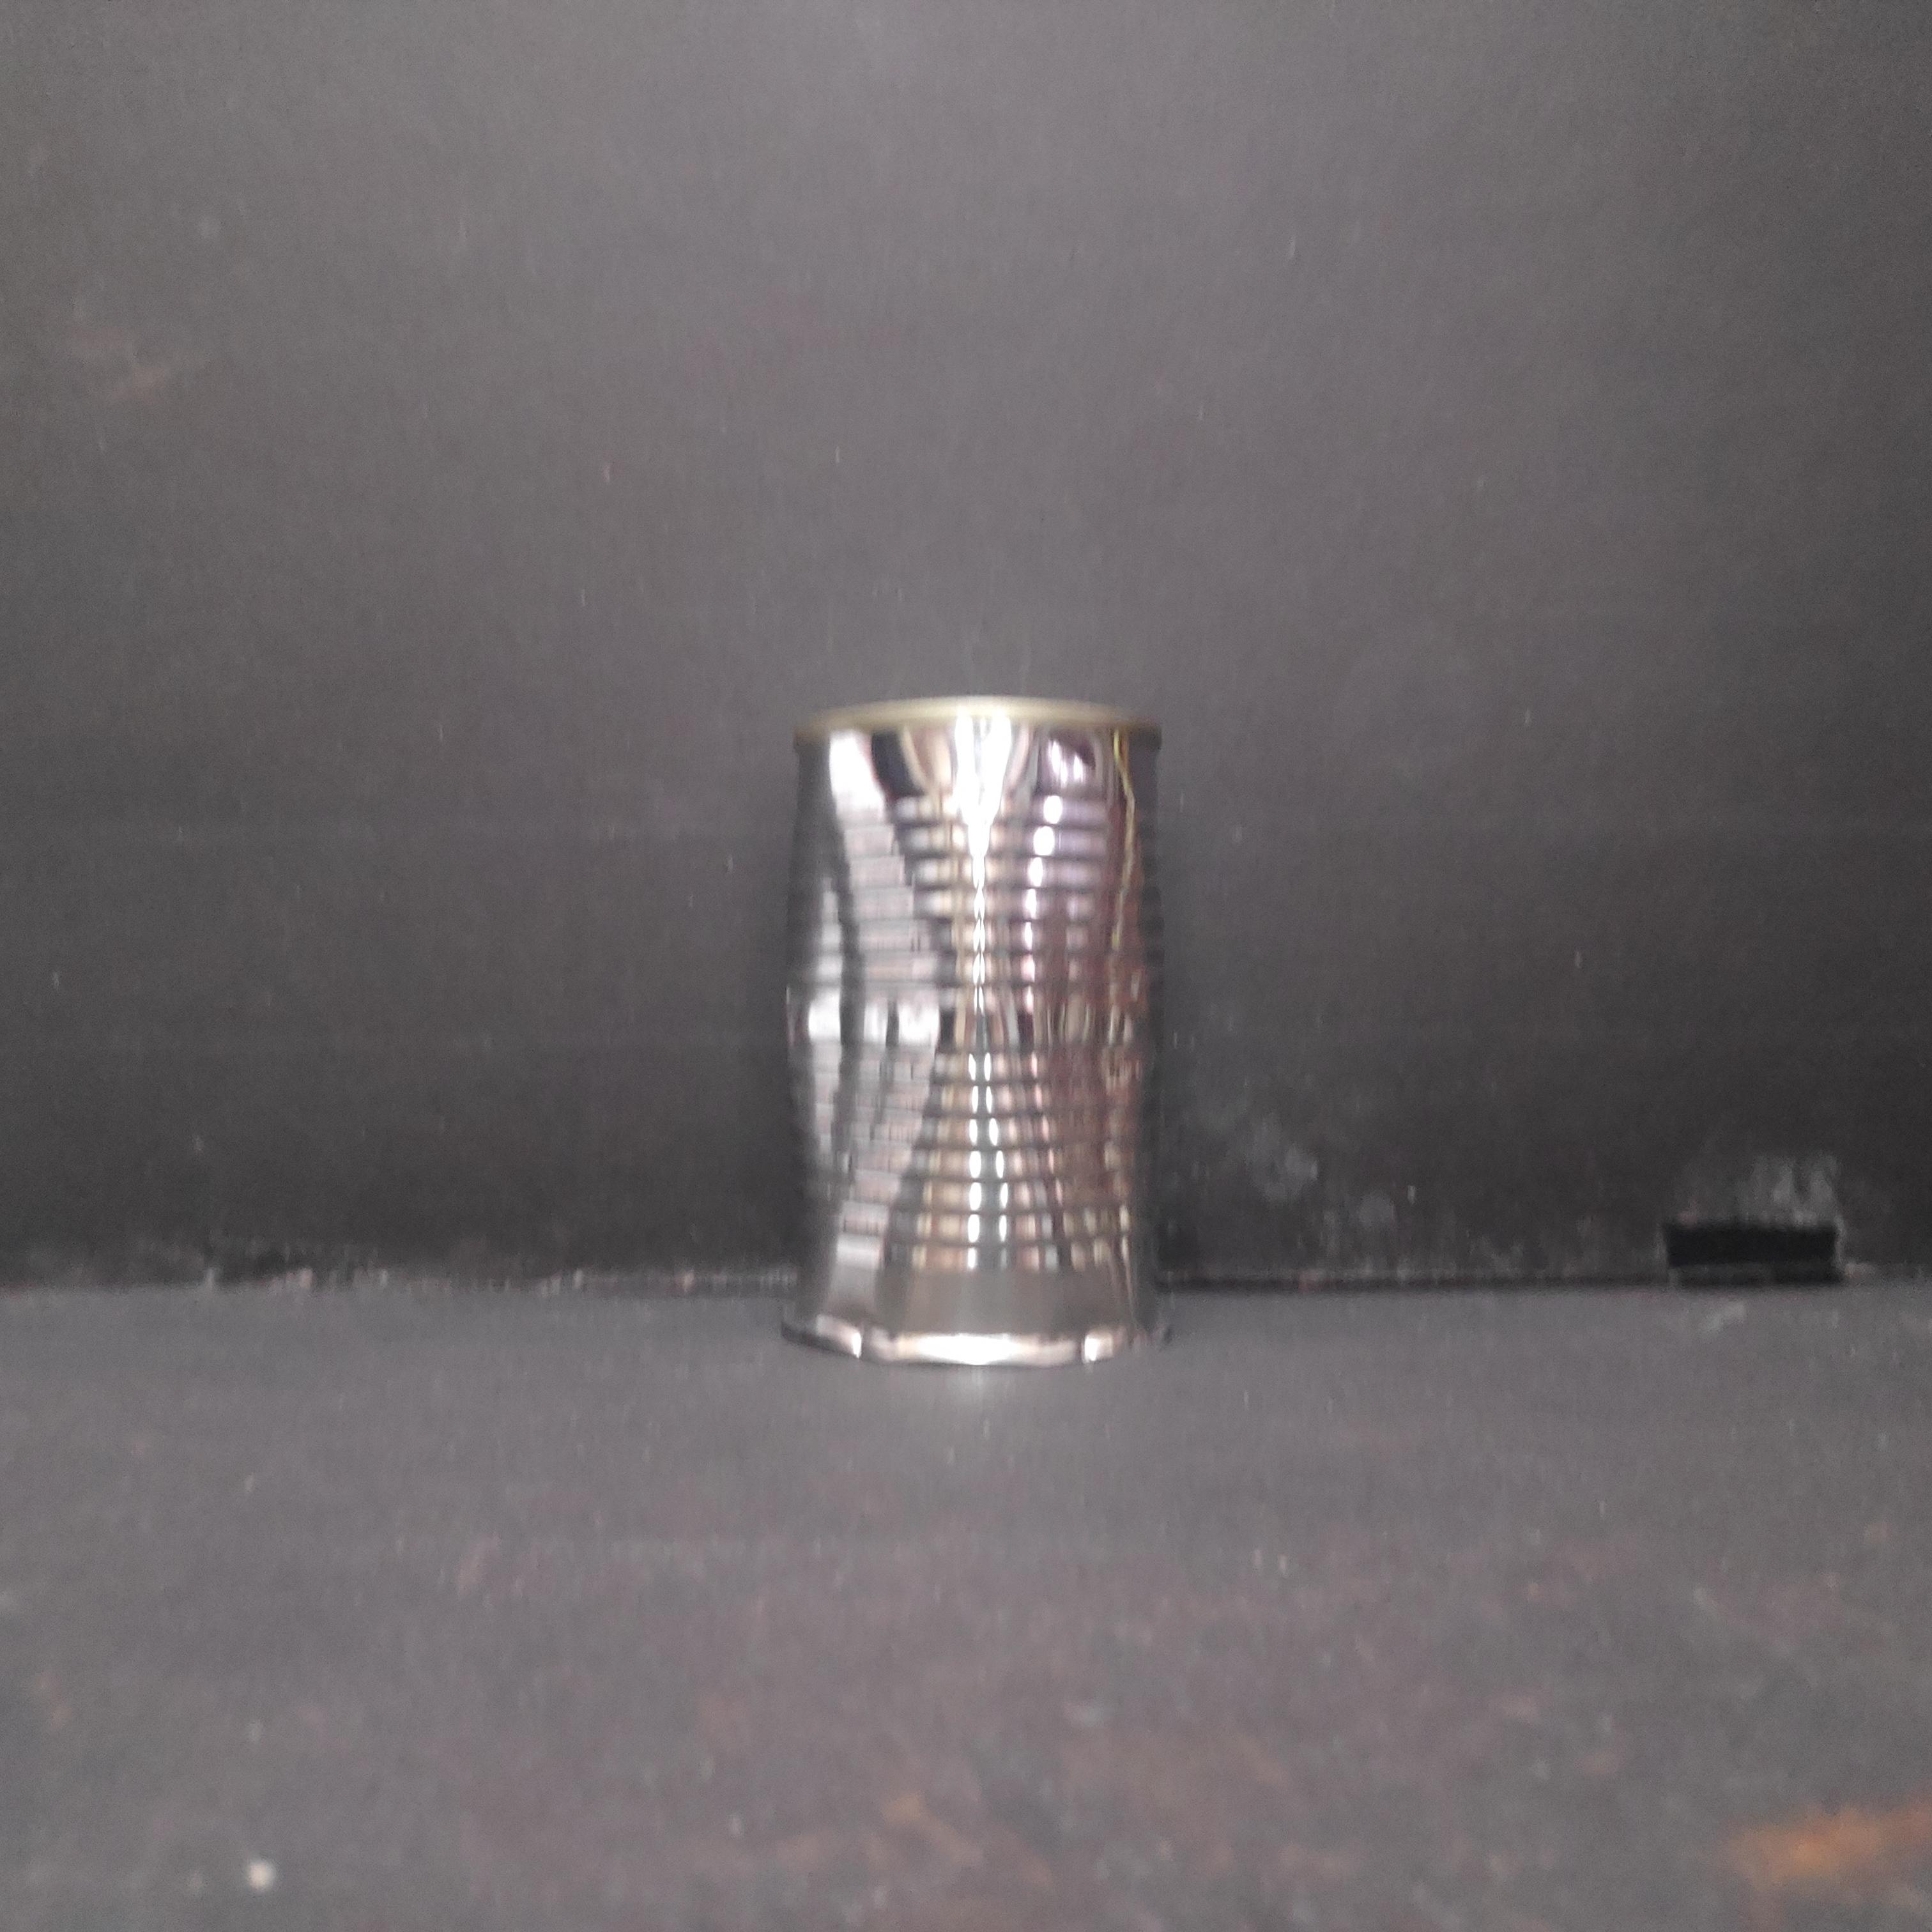Minor Defect: (771, 691, 1177, 1386)
